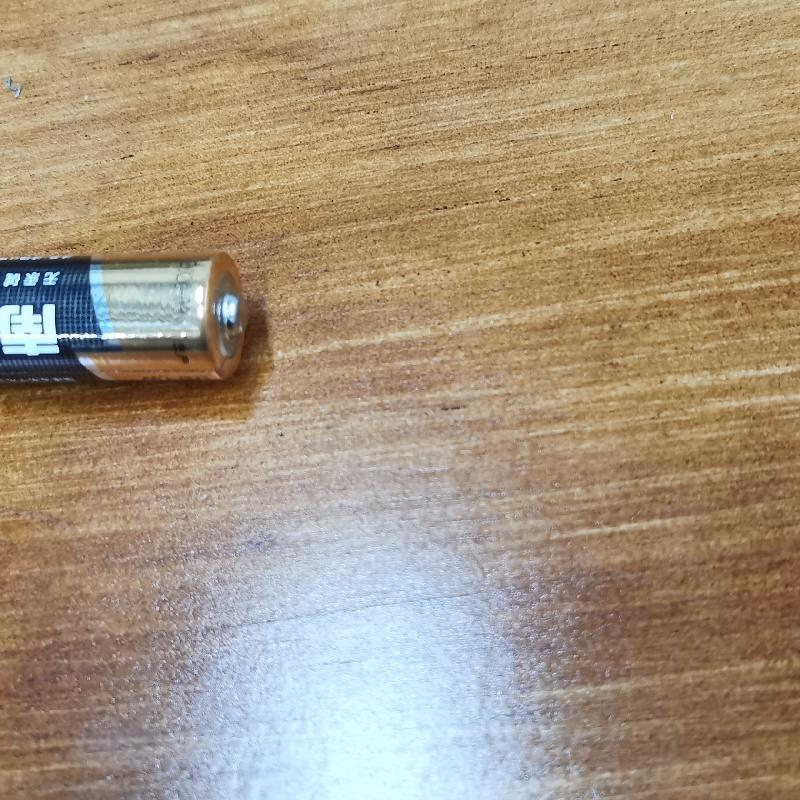battery: (4, 246, 250, 388)
